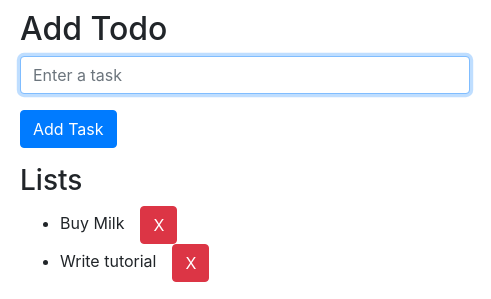
Test: Form › remove todo
The width and height of the screenshot is (491, 299).
Click the button "X" next to "Buy Milk": point(159, 225) [140,206,177,244]
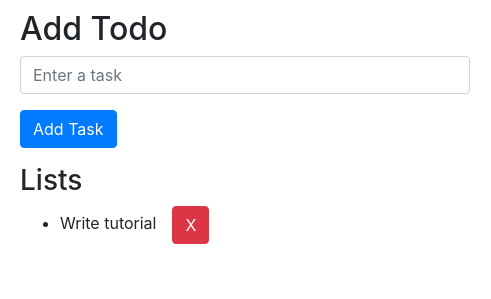
expect the number of list items is 1: met, box [60,206,209,244]
